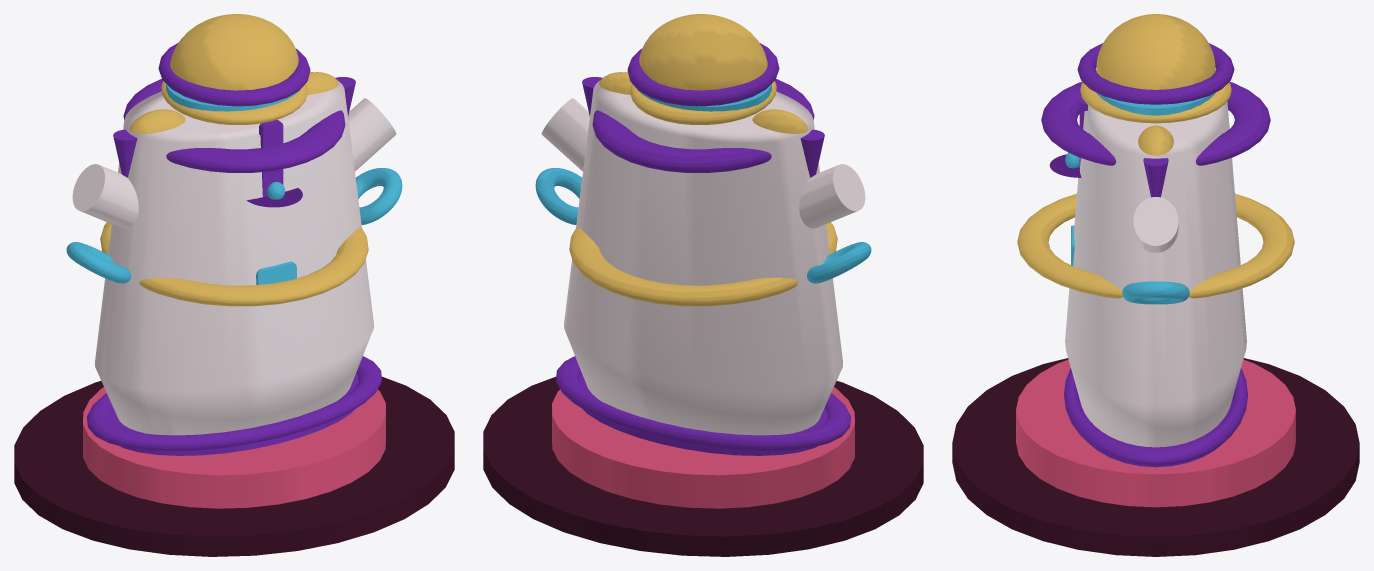
The model's file is 0691_《史记》_刘氏冠.glb.
3 views of the same model, side by side, from view 1: azimuth 30°, elevation 25°; view 2: azimuth 150°, elevation 25°; view 3: azimuth 270°, elevation 25° (orthographic).
Parts seen in each view (by area): view 1: card_0691; view 2: card_0691; view 3: card_0691.
Boxes of the visible parts, box(x1,y1,x2,y2) form: card_0691: box(14, 14, 454, 556); card_0691: box(483, 14, 923, 556); card_0691: box(952, 14, 1359, 556).
Bounding box in the file's own units: 0.9165 × 1 × 0.8365.
